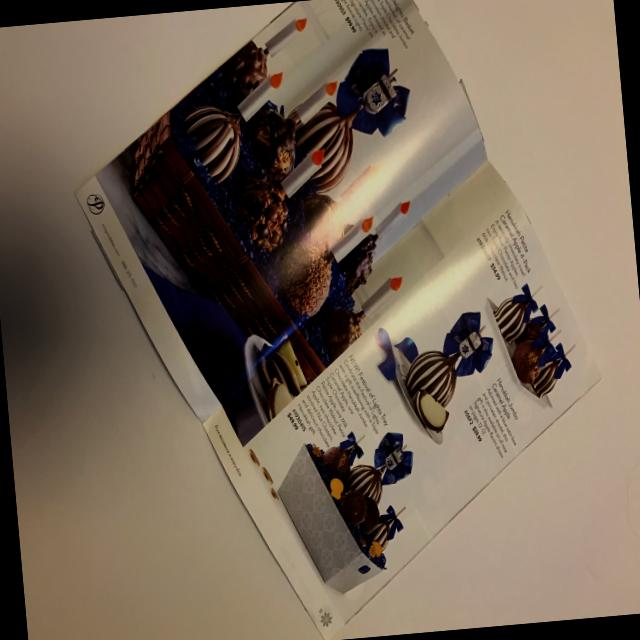Paper: (60, 0, 618, 640)
